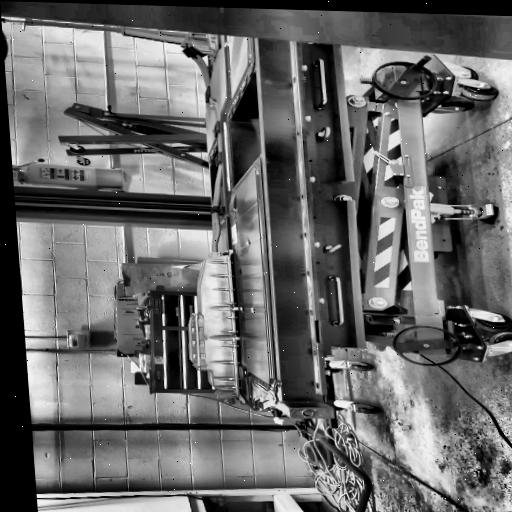b_casing: (166, 30, 367, 423)
bms_unit: (182, 247, 248, 410)
